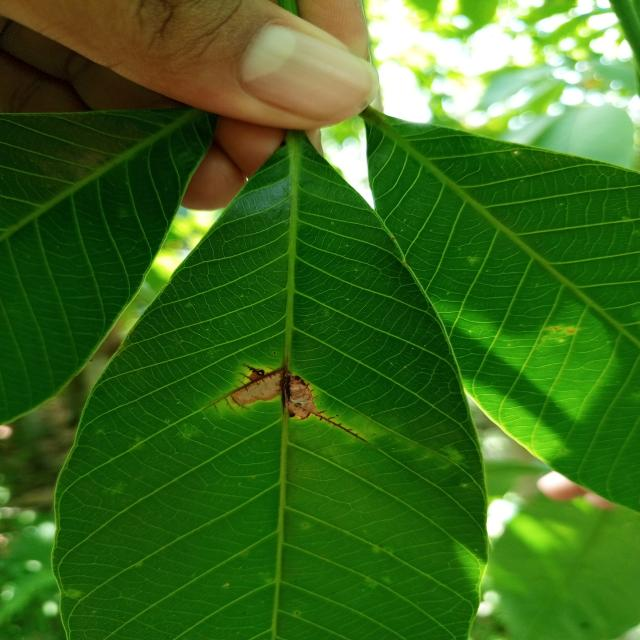Colletotrichum: (166, 420, 168, 422)
Corynespora: (203, 362, 284, 412), (293, 410, 368, 442)
Leaf-Blight: (231, 373, 282, 405), (289, 376, 319, 418)
